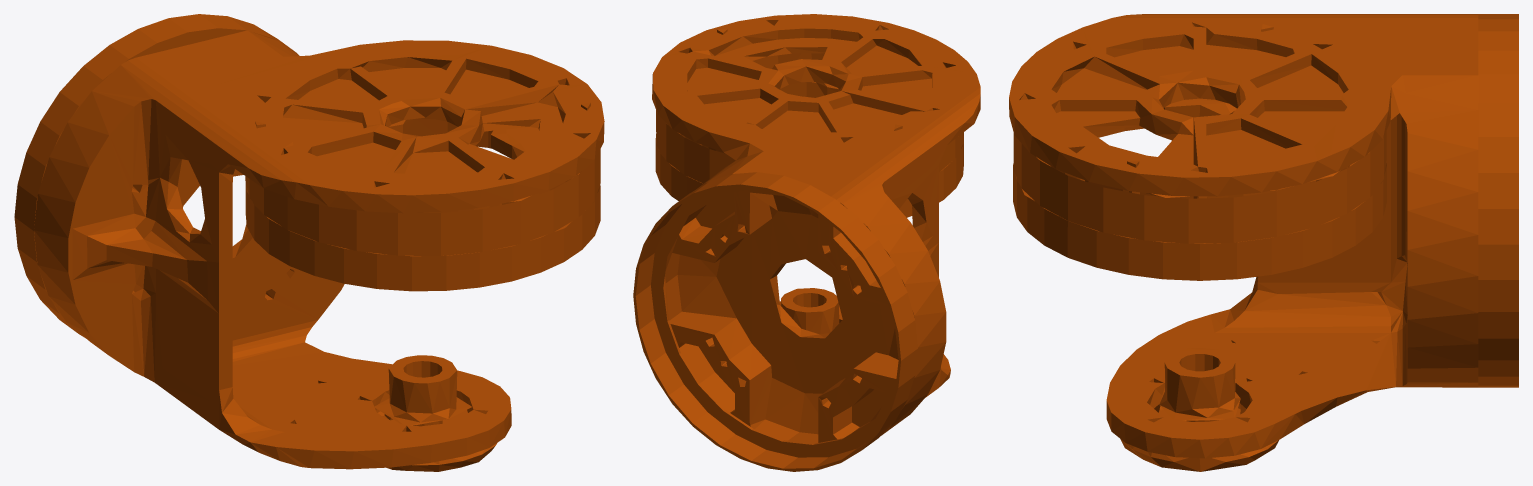
The model's file is va_right_lower_elbow.stl.obj.
3 renders of one model, left to right at view 1: azimuth 30°, elevation 25°; view 2: azimuth 150°, elevation 25°; view 3: azimuth 270°, elevation 25°, orthographic. The views are drawn at different scales.
Visible parts, largest first — view 1: <STL_BINARY>; view 2: <STL_BINARY>; view 3: <STL_BINARY>.
Boxes of the visible parts, box(x1,y1,x2,y2) form: <STL_BINARY>: box(14, 14, 604, 471); <STL_BINARY>: box(633, 14, 980, 471); <STL_BINARY>: box(1009, 14, 1518, 471).
Size of the model in its own units: 0.1209 by 0.0942 by 0.1228.
